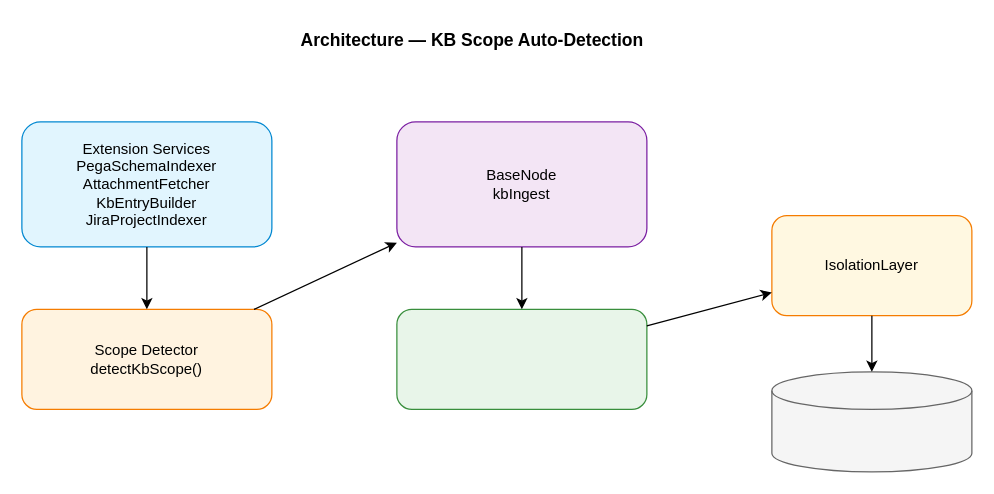
Image size: 994x494. Some labels were removed from this diagram. The shapes that lost their labels are listed below. From the top down, each one's centre as x and y in pixels, then its label:
At (521,358): "indexer-http POST /api/v1/kb/ingest".
At (871,421): "KB Store WORKSPACE/PROJECT".
